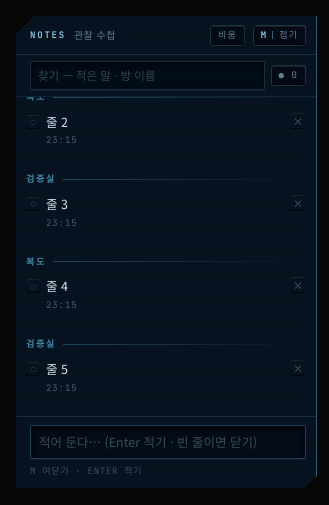
it: 거르기 — 줄이 쌓였을 때 찾는 길 › 찾으면 그 줄만 남고, 몇 줄이 가려졌는지 적힌다
The image size is (329, 505).
(page scrolled)
In the field named "수첩에서 찾기": (147, 75) [30,61,264,90], type "줄 3"
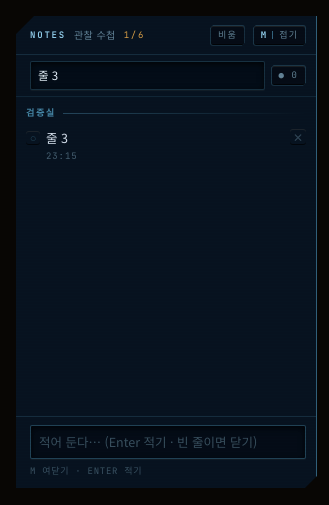
Expected: the text "줄 3" is shown, [46,128,68,147]
Now the text "1/6" is shown, box [124,28,145,43]
